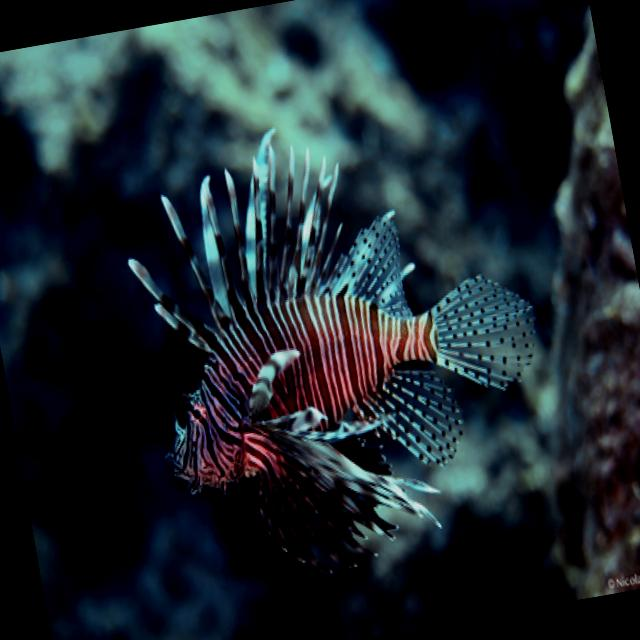Aslan Baligi: (104, 85, 574, 603)
